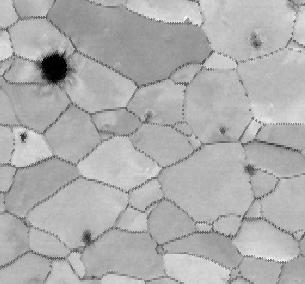good_void: (37, 46, 72, 89), (233, 159, 258, 179), (139, 105, 154, 129), (79, 225, 95, 247), (246, 33, 263, 51), (17, 130, 29, 145), (215, 125, 230, 136), (194, 134, 200, 141)
